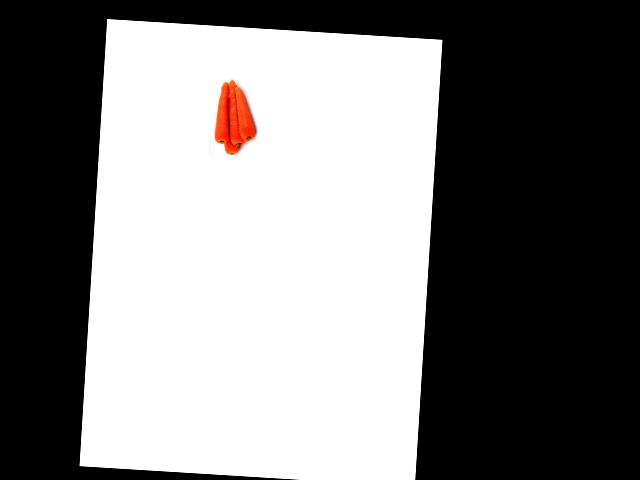carrot: (237, 84, 258, 143)
